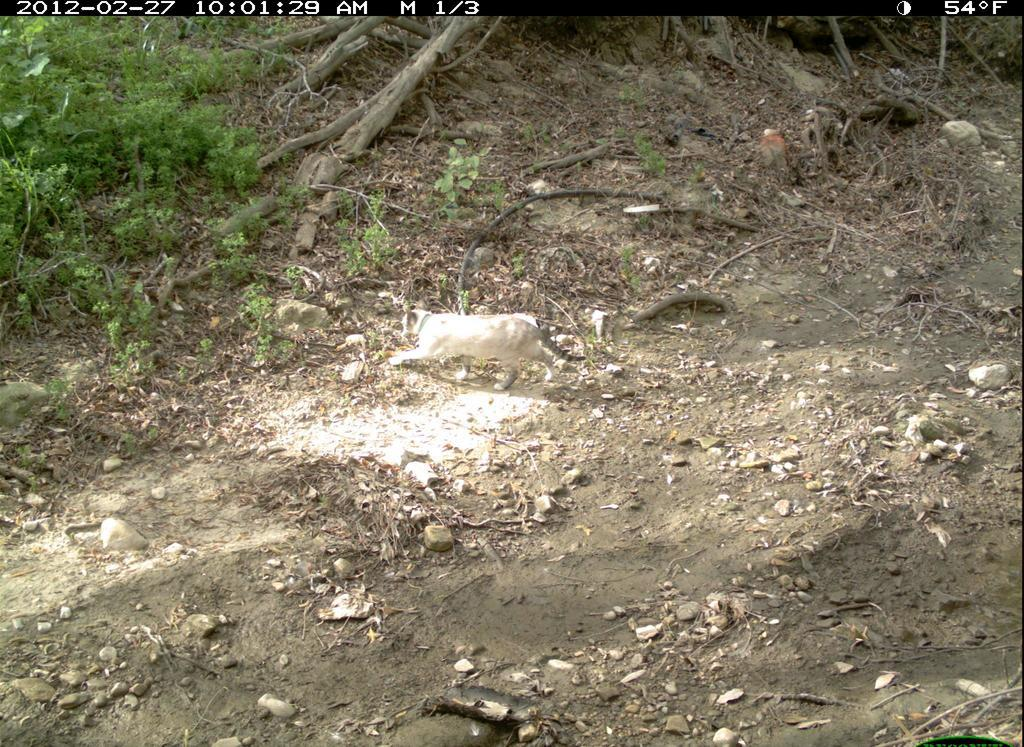cat: (383, 295, 592, 399)
